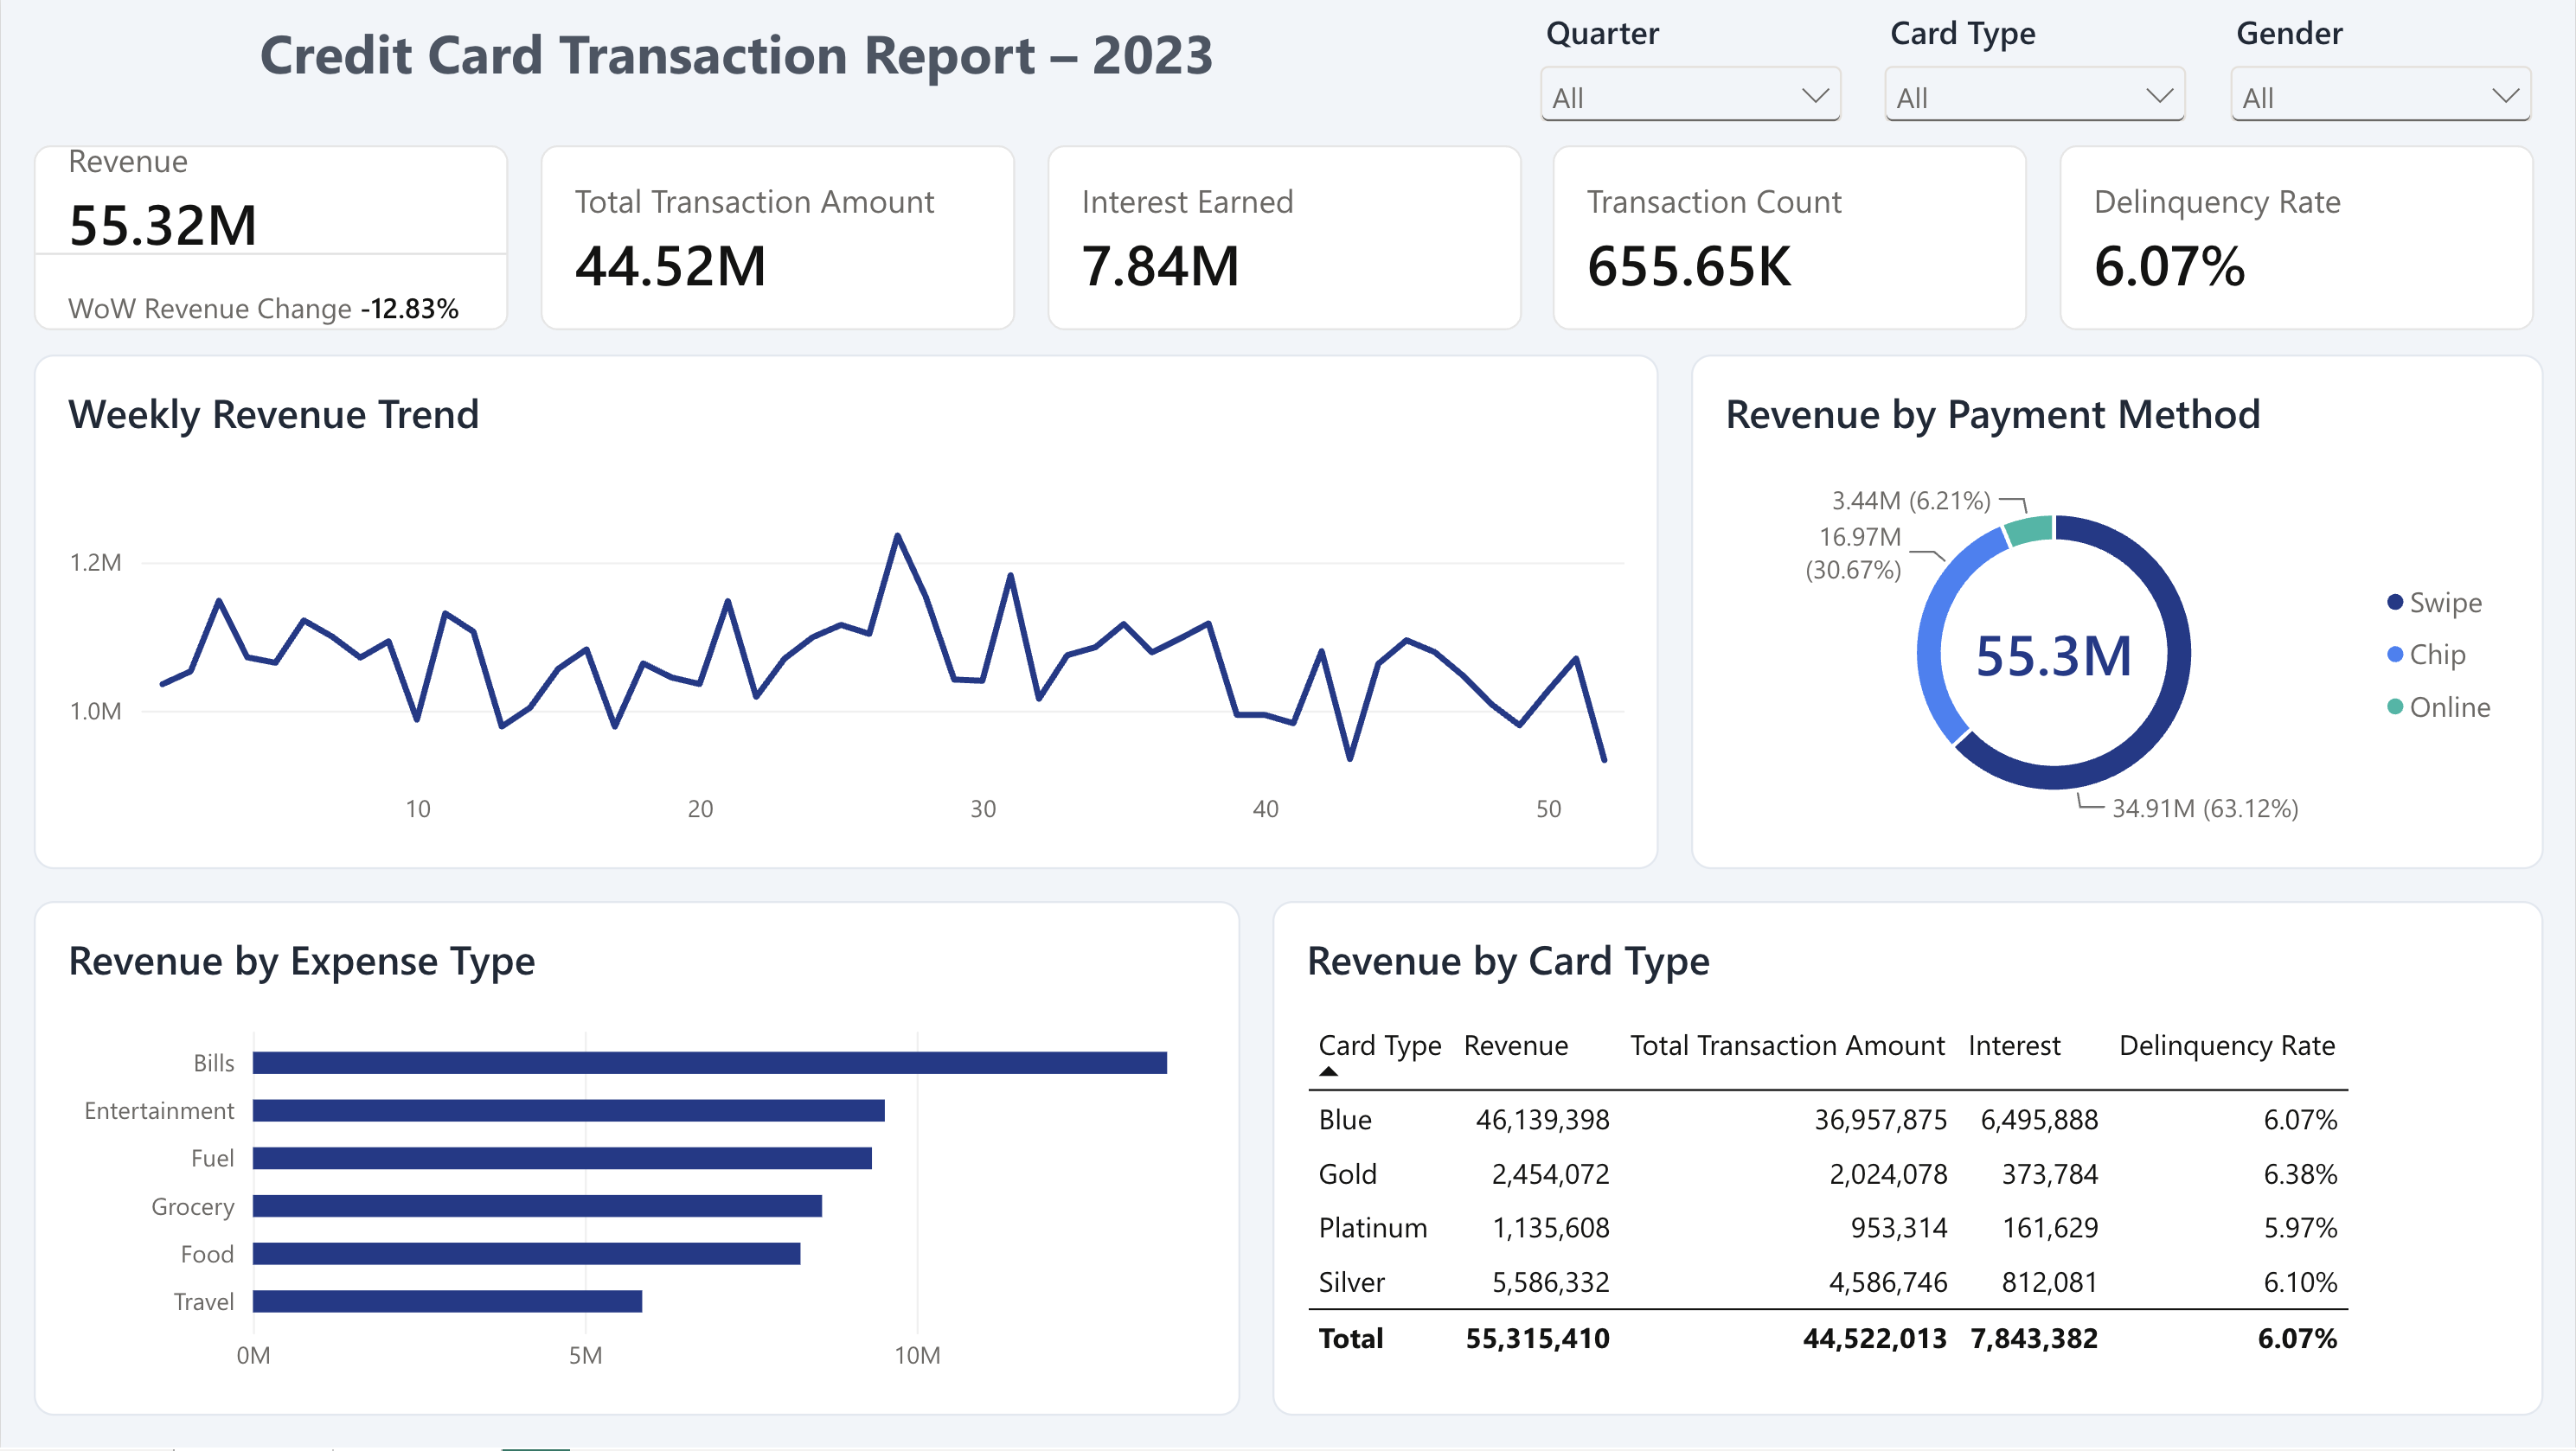

The page's visual inventory and layout, read from the dashboard file:
{"tool":"powerbi","page":{"name":"Overview","canvas":[1280,720],"ordinal":0},"visuals":[{"type":"textbox","box":[16,8,700,48],"z":0},{"type":"slicer","title":"Quarter","fields":{"Values":["credit_card.Qtr"]},"box":[760,4,160,56],"z":1000},{"type":"slicer","fields":{"Values":["credit_card.Card_Category"]},"box":[932,4,160,56],"z":2000},{"type":"slicer","fields":{"Values":["customer.Gender"]},"box":[1104,4,160,56],"z":3000},{"type":"cardVisual","fields":{"Data":["credit_card.Revenue"]},"box":[16,72,236,92],"z":4000},{"type":"cardVisual","fields":{"Data":["credit_card.Total Transaction Amount"]},"box":[268,72,236,92],"z":5000},{"type":"cardVisual","fields":{"Data":["credit_card.Interest Earned"]},"box":[520,72,236,92],"z":6000},{"type":"cardVisual","fields":{"Data":["credit_card.Transaction Count"]},"box":[772,72,236,92],"z":7000},{"type":"cardVisual","fields":{"Data":["credit_card.Delinquency Rate"]},"box":[1024,72,236,92],"z":8000},{"type":"lineChart","title":"Weekly Revenue Trend","fields":{"Category":["credit_card.Week_No"],"Y":["credit_card.Revenue"]},"box":[16,176,808,256],"z":9000},{"type":"clusteredBarChart","title":"Revenue by Expense Type","fields":{"Category":["credit_card.Expense_Type"],"Y":["credit_card.Revenue"]},"box":[16,448,600,256],"z":10000},{"type":"donutChart","title":"Revenue by Payment Method","fields":{"Category":["credit_card.Payment_Method"],"Y":["credit_card.Revenue"]},"box":[840,176,424,256],"z":11000},{"type":"tableEx","title":"Revenue by Card Type","fields":{"Values":["credit_card.Card_Category","credit_card.Revenue (Table)","credit_card.Total Transaction Amount","credit_card.Interest (Table)","credit_card.Delinquency Rate"]},"box":[632,448,632,256],"z":12000}]}

Visuals, with their boxes in screenshot pixels (x1, y1, x2, y2), scaled from the page's 1280x720 canvas onto the 2576x1451 screenshot:
textbox: left=32, top=16, right=1441, bottom=113
"Quarter" slicer: left=1529, top=8, right=1851, bottom=121
slicer - credit_card.Card_Category: left=1875, top=8, right=2198, bottom=121
slicer - customer.Gender: left=2222, top=8, right=2544, bottom=121
cardVisual - credit_card.Revenue: left=32, top=145, right=507, bottom=330
cardVisual - credit_card.Total Transaction Amount: left=540, top=145, right=1015, bottom=330
cardVisual - credit_card.Interest Earned: left=1047, top=145, right=1522, bottom=330
cardVisual - credit_card.Transaction Count: left=1554, top=145, right=2028, bottom=330
cardVisual - credit_card.Delinquency Rate: left=2060, top=145, right=2535, bottom=330
"Weekly Revenue Trend" lineChart: left=32, top=355, right=1658, bottom=871
"Revenue by Expense Type" clusteredBarChart: left=32, top=903, right=1240, bottom=1419
"Revenue by Payment Method" donutChart: left=1690, top=355, right=2544, bottom=871
"Revenue by Card Type" tableEx: left=1272, top=903, right=2544, bottom=1419
